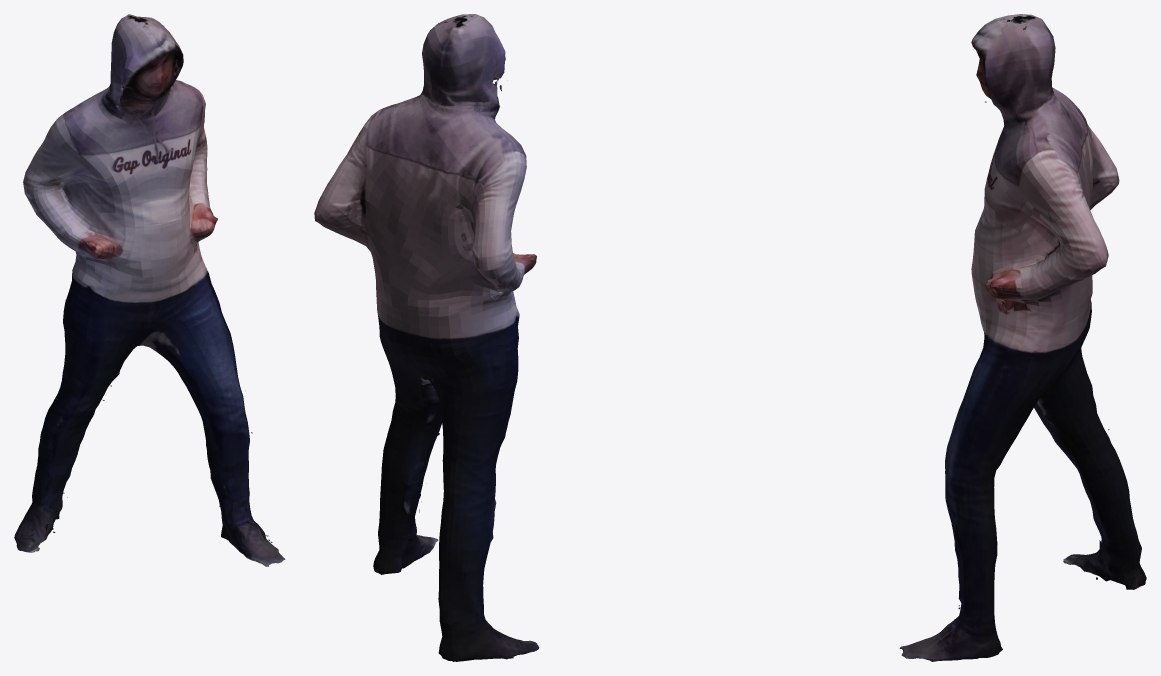
File: AB-dodgeLeft_0000020.obj
3 renders of one model, left to right at view 1: azimuth 30°, elevation 25°; view 2: azimuth 150°, elevation 25°; view 3: azimuth 270°, elevation 25°, orthographic. The views are drawn at different scales.
Visible parts, largest first — view 1: Retopo_frame_0000020_mesh; view 2: Retopo_frame_0000020_mesh; view 3: Retopo_frame_0000020_mesh.
Boxes of the visible parts, <box> form: Retopo_frame_0000020_mesh: <box>14,14,285,566</box>; Retopo_frame_0000020_mesh: <box>314,14,539,661</box>; Retopo_frame_0000020_mesh: <box>899,14,1146,661</box>.
Bounding box in the file's own units: 0.6764 × 1.74 × 1.14.
Materials: 1 (1 with a texture image).
